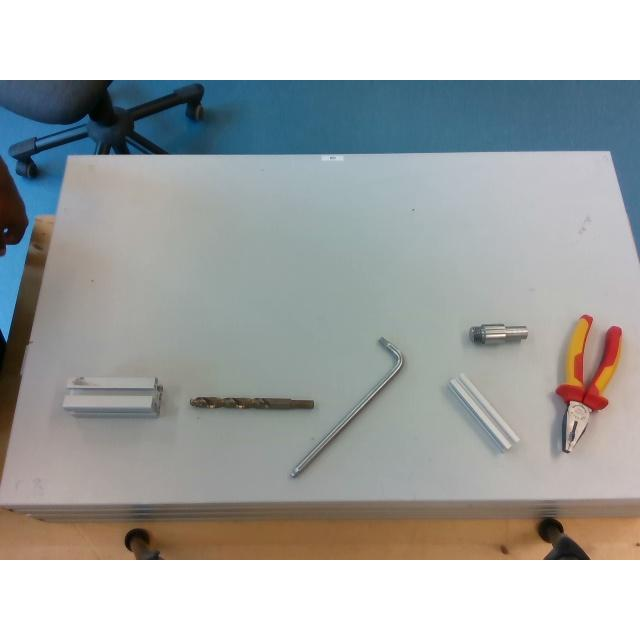AllenKey: (288, 337, 404, 477)
Axis2: (468, 324, 528, 344)
Drill: (190, 396, 314, 408)
F20_20_G: (448, 374, 520, 451)
S40_40_G: (62, 377, 162, 415)
